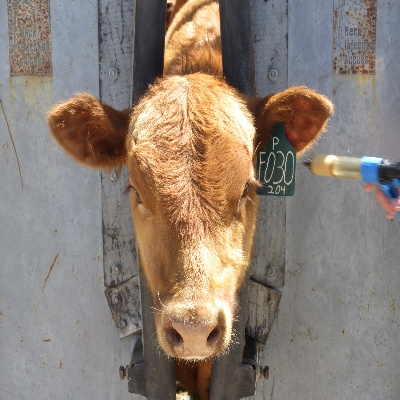fidget_spinner: (162, 310, 223, 360)
